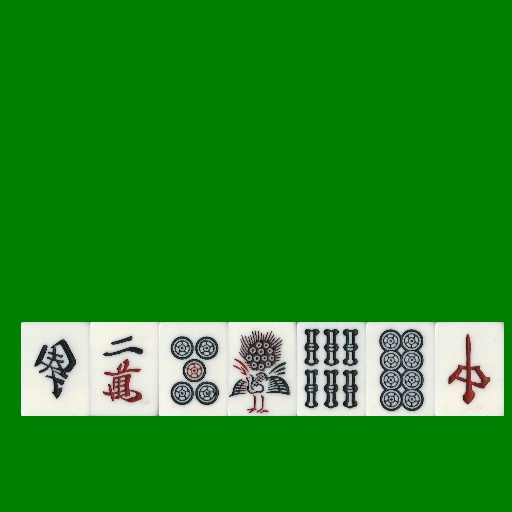1s: (228, 322, 297, 416)
2m: (90, 322, 159, 416)
5p: (159, 322, 228, 416)
6s: (297, 322, 366, 416)
8p: (366, 322, 435, 416)
south: (21, 322, 90, 416)
tyun: (435, 322, 504, 416)
